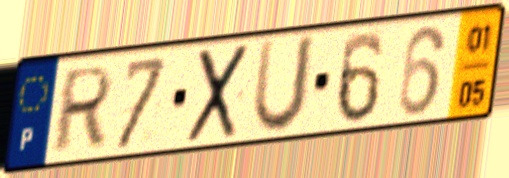6: (396, 21, 449, 120), (337, 28, 387, 127)
7: (114, 53, 170, 151)
R: (48, 61, 118, 157)
U: (248, 31, 320, 138)
X: (183, 39, 253, 147)
